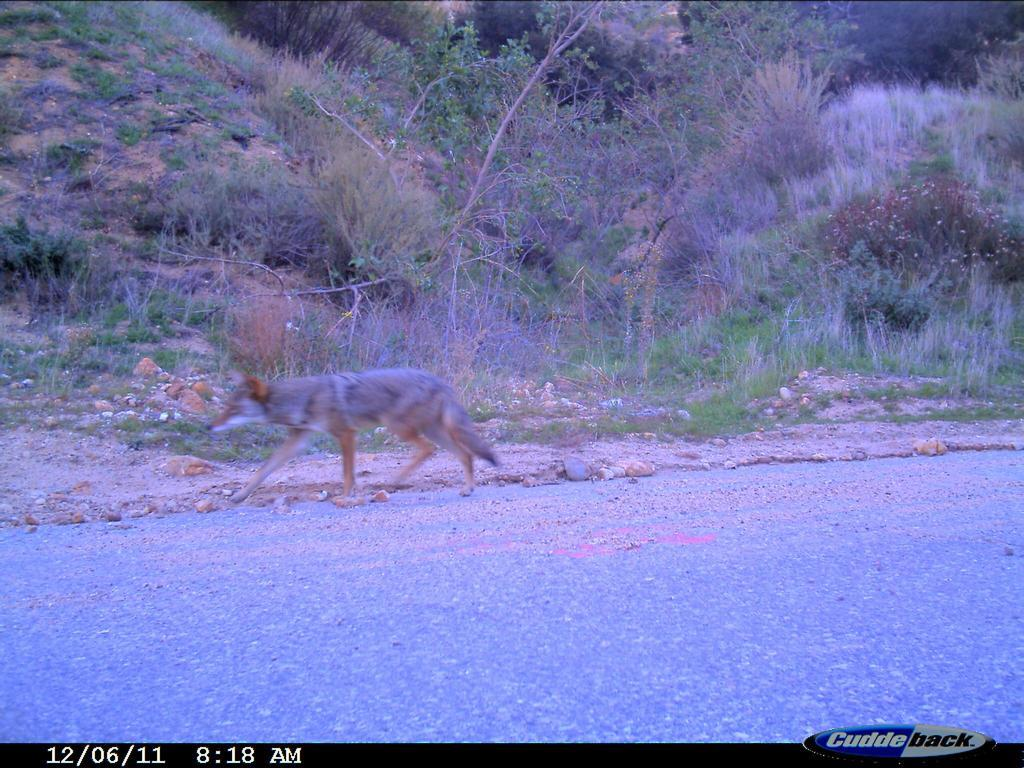coyote: (200, 356, 506, 515)
